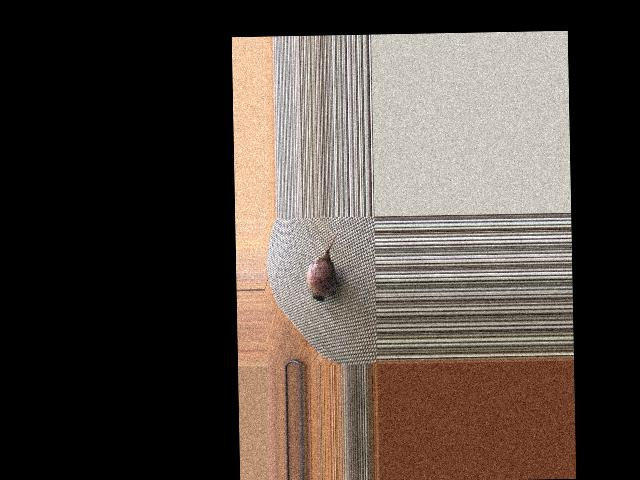beet: (306, 229, 343, 302)
